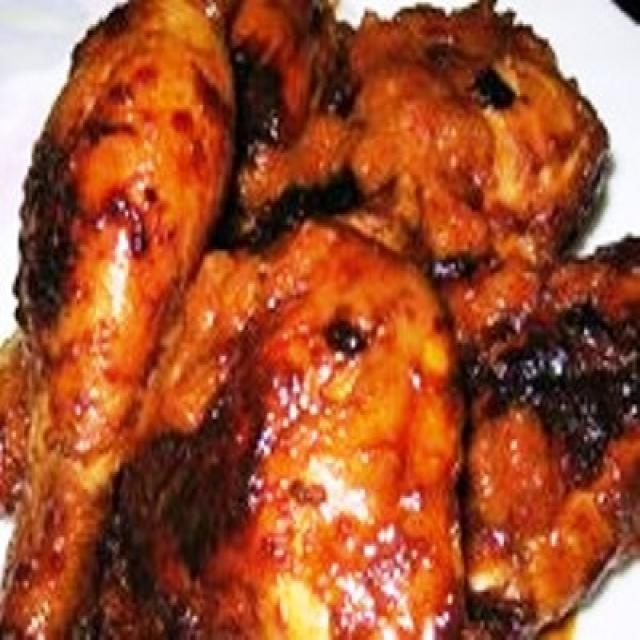鸡肉料理 含炸鸡: (8, 9, 635, 618)
